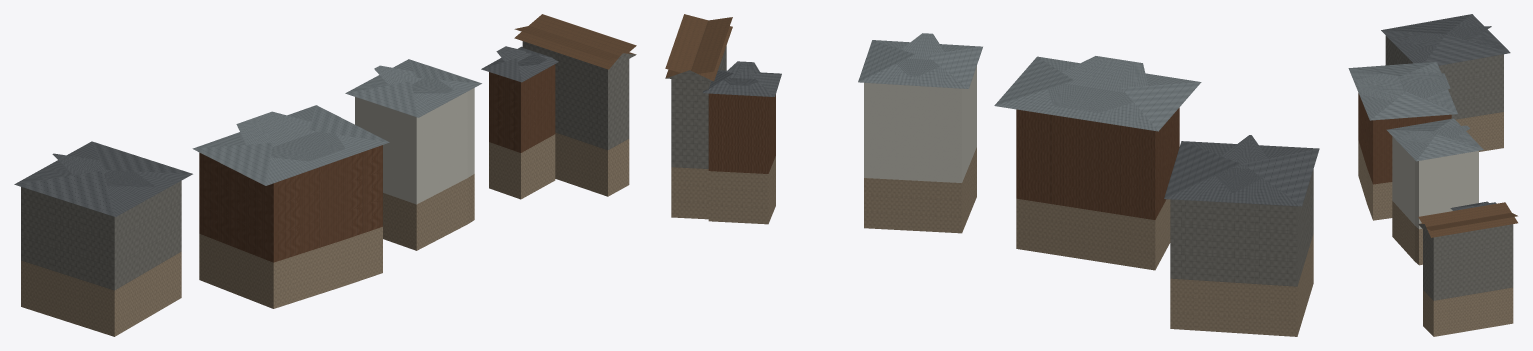
The model's file is bld_c22_44_386.gltf.
3 views of the same model, side by side, from view 1: azimuth 30°, elevation 25°; view 2: azimuth 150°, elevation 25°; view 3: azimuth 270°, elevation 25° (orthographic). The views are drawn at different scales.
Visible parts, largest first — view 1: bld_c22_44_386; view 2: bld_c22_44_386; view 3: bld_c22_44_386.
Boxes of the visible parts, x1,y1,x2,y2 form: bld_c22_44_386: [14, 14, 636, 336]; bld_c22_44_386: [665, 14, 1319, 336]; bld_c22_44_386: [1348, 14, 1517, 336].
Bounding box in the file's own units: 68.67 × 17.5 × 21.76.
Materials: 8 (8 with a texture image).
